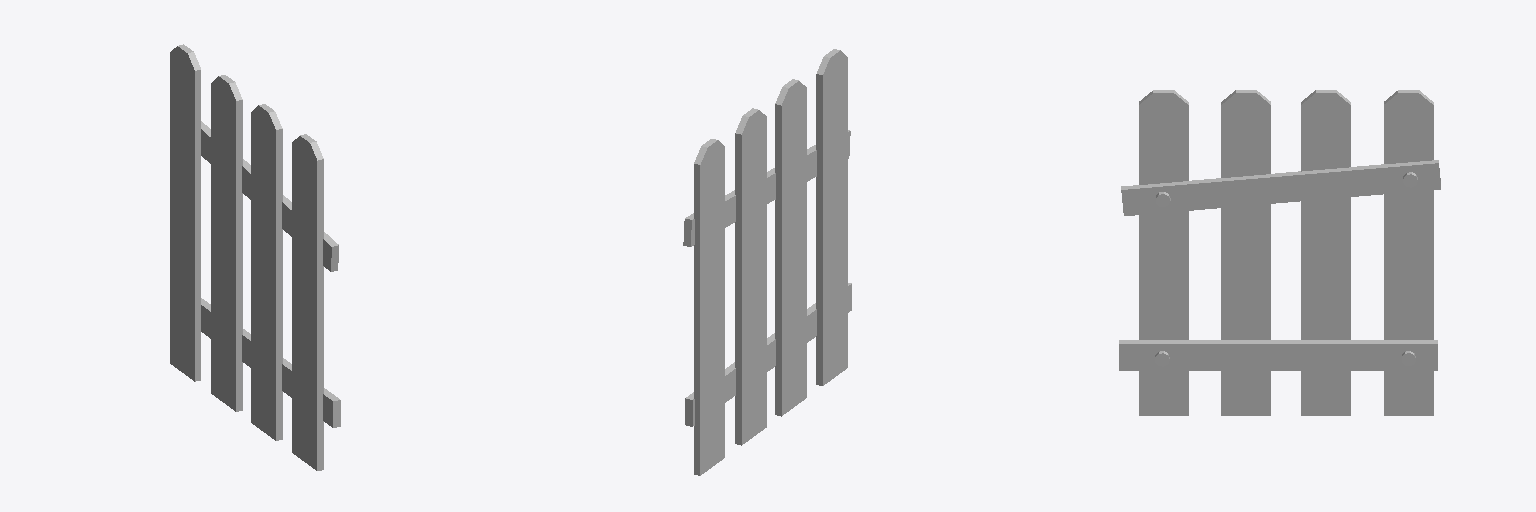
File: płot2.obj
3 renders of one model, left to right at view 1: azimuth 30°, elevation 25°; view 2: azimuth 150°, elevation 25°; view 3: azimuth 270°, elevation 25°, orthographic.
Visible parts, largest first — view 1: Cube.002; view 2: Cube.002; view 3: Cube.002.
Boxes of the visible parts, <box> form: Cube.002: <box>170,44,340,470</box>; Cube.002: <box>683,49,851,475</box>; Cube.002: <box>1119,90,1440,415</box>.
Bounding box in the file's own units: 0.2539 × 4.25 × 3.85.